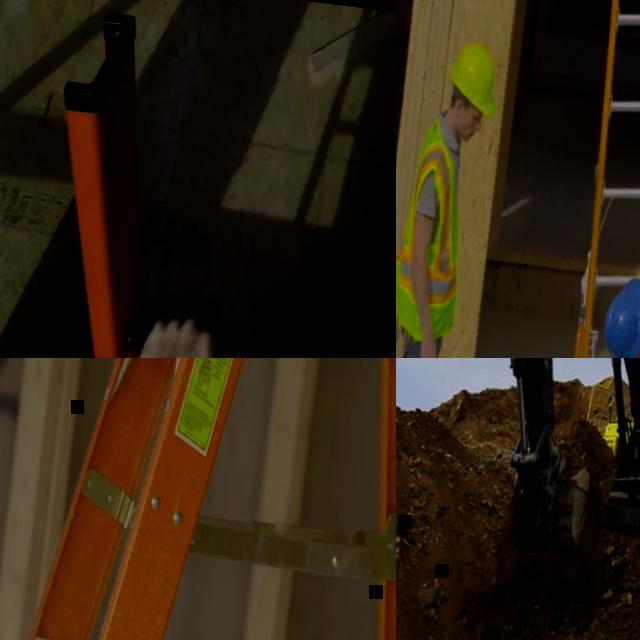Hardhat: (445, 40, 504, 118), (597, 274, 640, 358)
NO-Mask: (459, 119, 477, 142), (635, 346, 640, 358)
Person: (396, 35, 495, 358), (52, 304, 223, 358), (560, 0, 640, 39)
Safety Vest: (396, 113, 478, 343)
vehicle: (453, 358, 640, 580)
